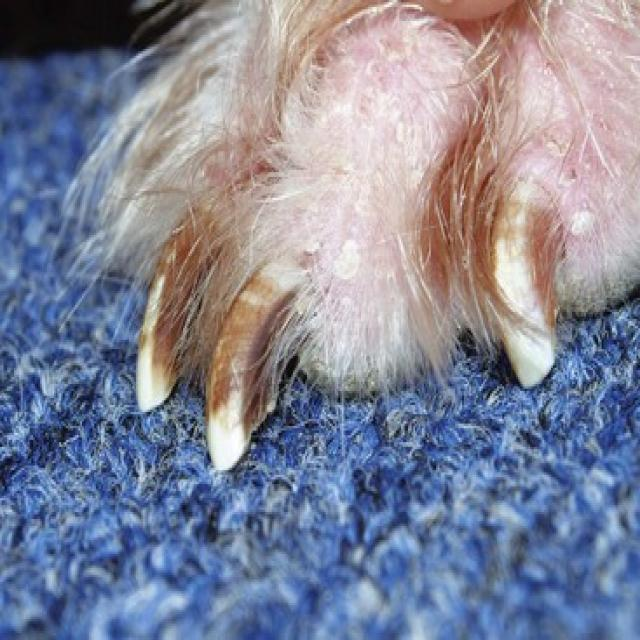fungal infection: (319, 45, 432, 351), (394, 78, 505, 303), (570, 19, 640, 252), (204, 255, 281, 403), (504, 176, 570, 317), (152, 212, 204, 373)
